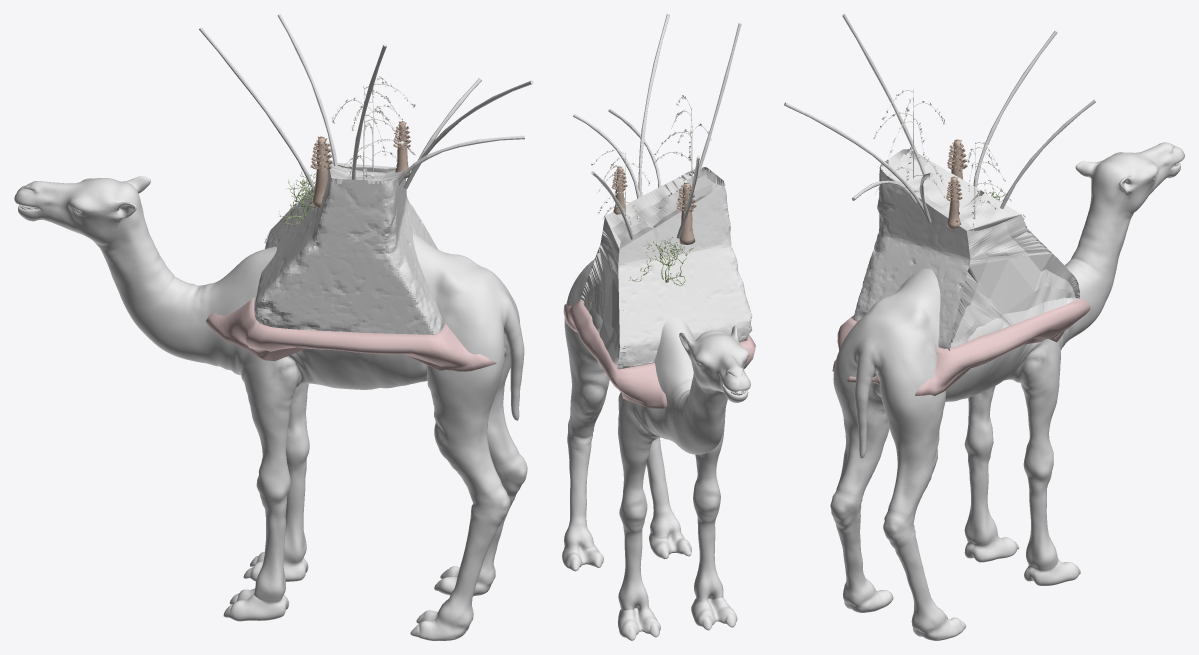
The model's file is chimera_f04.glb.
3 views of the same model, side by side, from view 1: azimuth 30°, elevation 25°; view 2: azimuth 150°, elevation 25°; view 3: azimuth 270°, elevation 25° (orthographic). The views are drawn at different scales.
Parts seen in each view (by area): view 1: CA01_body.001, CA01_concrete_hump.001, CA01_membrane.001, CA01_rebar.001, CA01_plant_2_cistanche_MID.001, CA01_plant_0_retama_raetam_twig_MID_BAKED.001; view 2: CA01_body.001, CA01_concrete_hump.001, CA01_membrane.001, CA01_rebar.001, CA01_plant_2_cistanche_MID.001, CA01_plant_4_launaea_arborescens_MID.001, CA01_plant_0_retama_raetam_twig_MID_BAKED.001, CA01_plant_3_cistanche_MID.001, CA01_plant_1_retama_raetam_twig_MID_BAKED.001; view 3: CA01_body.001, CA01_concrete_hump.001, CA01_membrane.001, CA01_rebar.001, CA01_plant_0_retama_raetam_twig_MID_BAKED.001, CA01_plant_3_cistanche_MID.001, CA01_plant_1_retama_raetam_twig_MID_BAKED.001.
Boxes of the visible parts, bbox=[...] form: CA01_body.001: bbox=[14, 176, 527, 640]; CA01_concrete_hump.001: bbox=[254, 162, 442, 334]; CA01_membrane.001: bbox=[206, 297, 506, 371]; CA01_rebar.001: bbox=[199, 14, 533, 189]; CA01_plant_2_cistanche_MID.001: bbox=[310, 136, 332, 207]; CA01_plant_0_retama_raetam_twig_MID_BAKED.001: bbox=[331, 81, 415, 212]; CA01_body.001: bbox=[562, 259, 750, 640]; CA01_concrete_hump.001: bbox=[580, 167, 752, 368]; CA01_membrane.001: bbox=[563, 300, 755, 408]; CA01_rebar.001: bbox=[573, 14, 741, 239]; CA01_plant_2_cistanche_MID.001: bbox=[676, 182, 696, 244]; CA01_plant_4_launaea_arborescens_MID.001: bbox=[629, 237, 693, 285]; CA01_plant_0_retama_raetam_twig_MID_BAKED.001: bbox=[654, 95, 711, 210]; CA01_plant_3_cistanche_MID.001: bbox=[611, 166, 627, 214]; CA01_plant_1_retama_raetam_twig_MID_BAKED.001: bbox=[591, 149, 650, 234]; CA01_body.001: bbox=[830, 142, 1184, 640]; CA01_concrete_hump.001: bbox=[853, 149, 1079, 350]; CA01_membrane.001: bbox=[832, 297, 1090, 395]; CA01_rebar.001: bbox=[784, 14, 1095, 222]; CA01_plant_0_retama_raetam_twig_MID_BAKED.001: bbox=[873, 89, 945, 198]; CA01_plant_3_cistanche_MID.001: bbox=[946, 176, 962, 228]; CA01_plant_1_retama_raetam_twig_MID_BAKED.001: bbox=[967, 142, 1011, 230].
Bounding box in the file's own units: 1.68 × 2.76 × 1.78.
